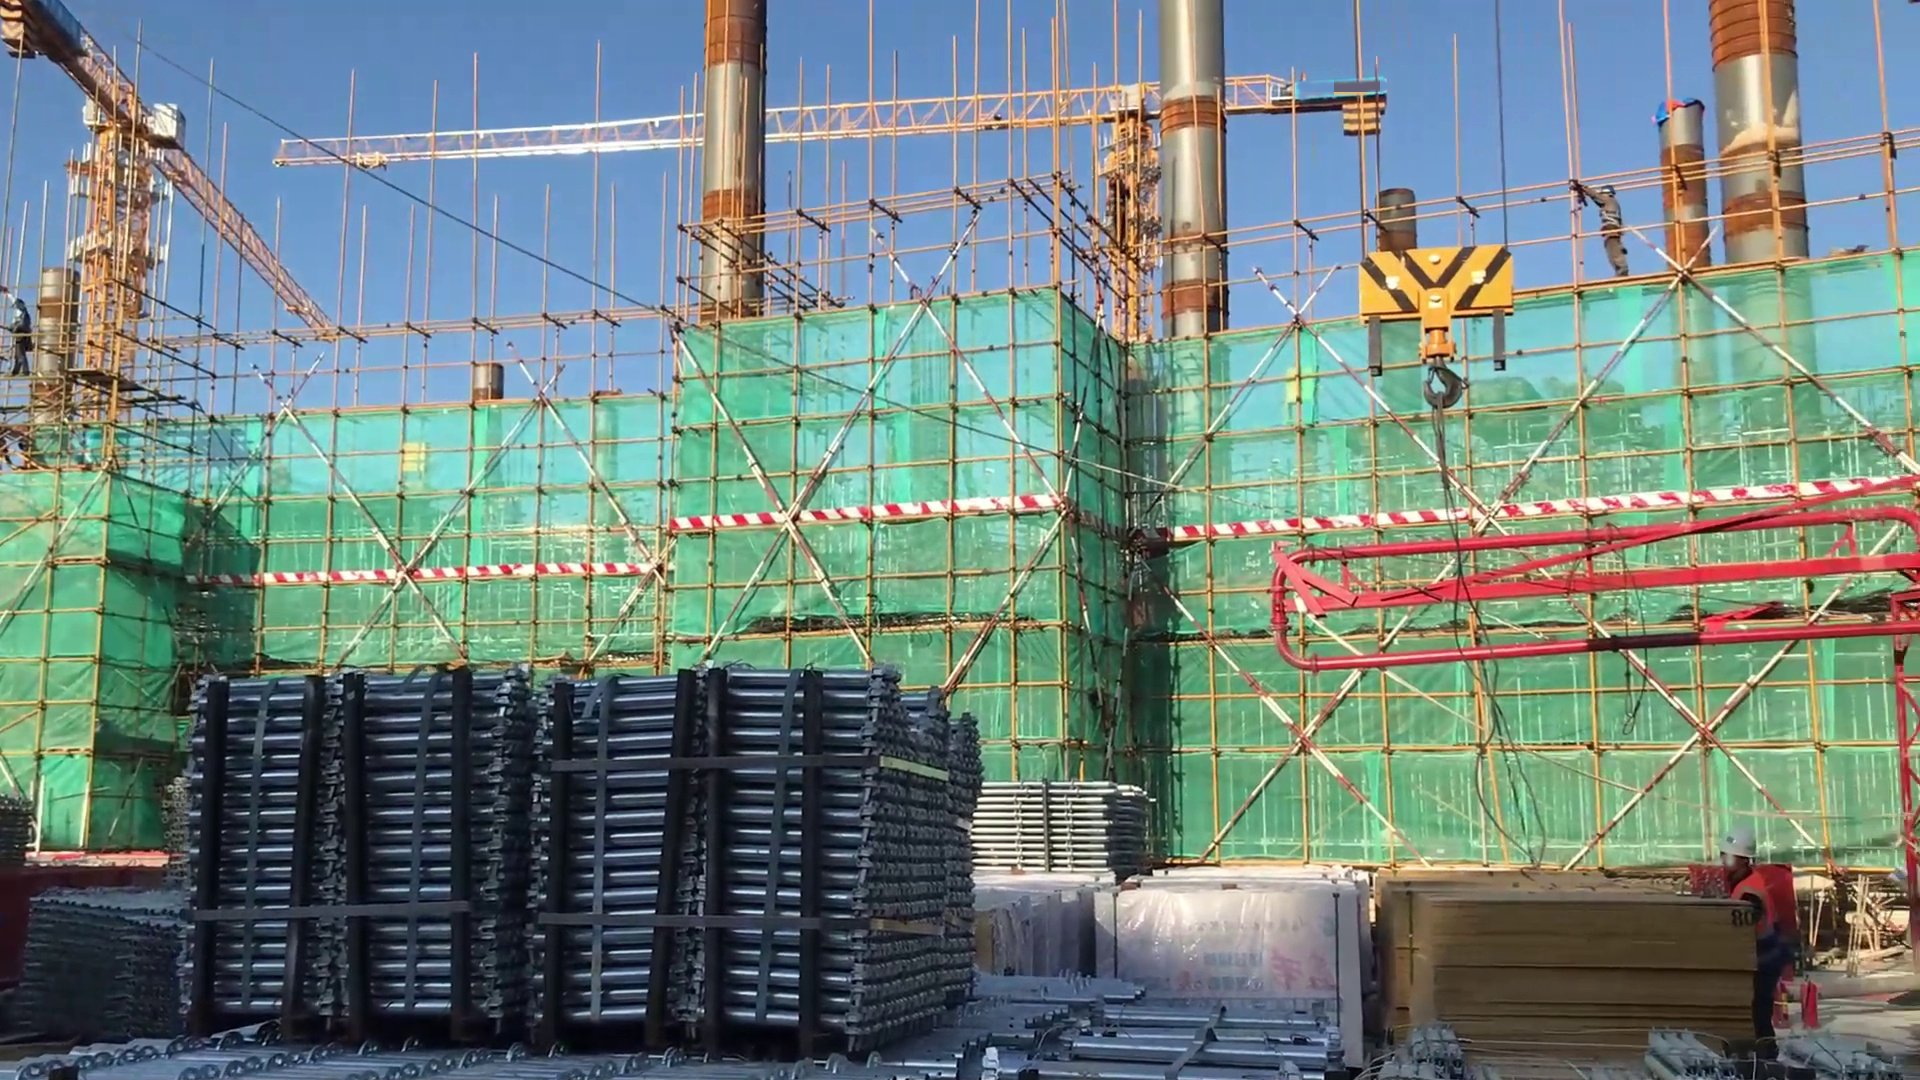board: (1373, 879, 1756, 1066)
helmet: (1716, 827, 1761, 862), (1598, 183, 1620, 201)
hook: (1336, 232, 1538, 444)
person: (1713, 830, 1791, 1057), (1571, 169, 1641, 289), (1, 279, 37, 391)
scaffold: (165, 653, 975, 1038), (945, 973, 1349, 1080), (29, 882, 193, 1049), (976, 778, 1159, 880), (162, 785, 216, 887)
vest: (1730, 875, 1787, 972)
